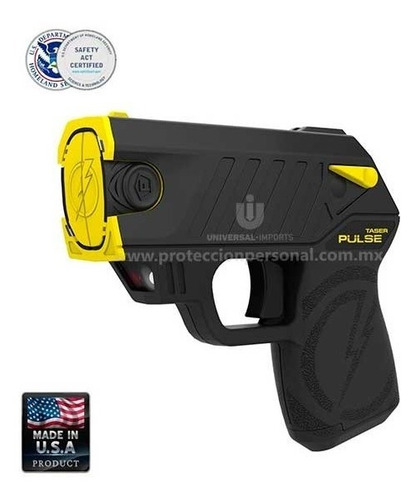Arma Falsa: (54, 107, 406, 445)
